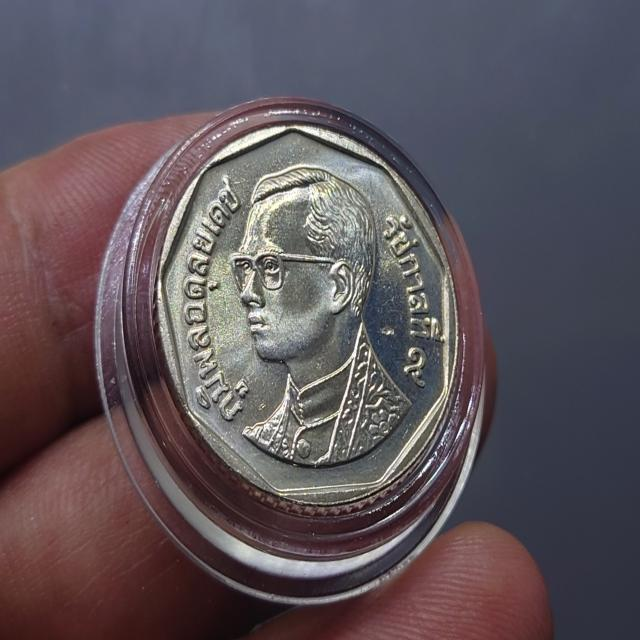5 Bath: (150, 119, 465, 523)
